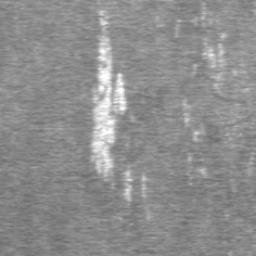White rust: (91, 36, 127, 177), (123, 170, 133, 202)
